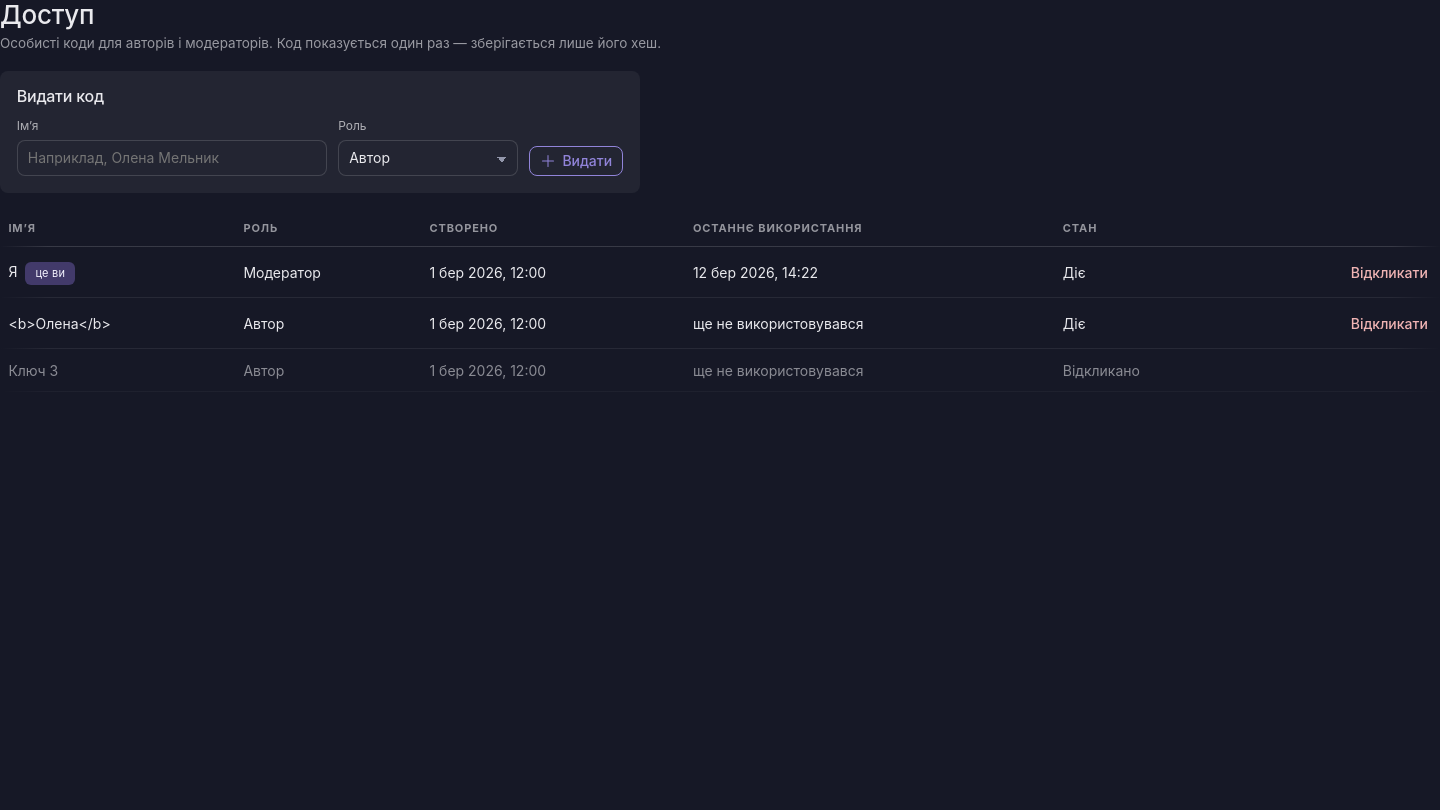
AccessComponent › a clipboard that is missing or refuses leaves the field to copy by hand, with a note
In the field with id "key-label": (172, 158) [17, 140, 327, 176], type "Ірина"
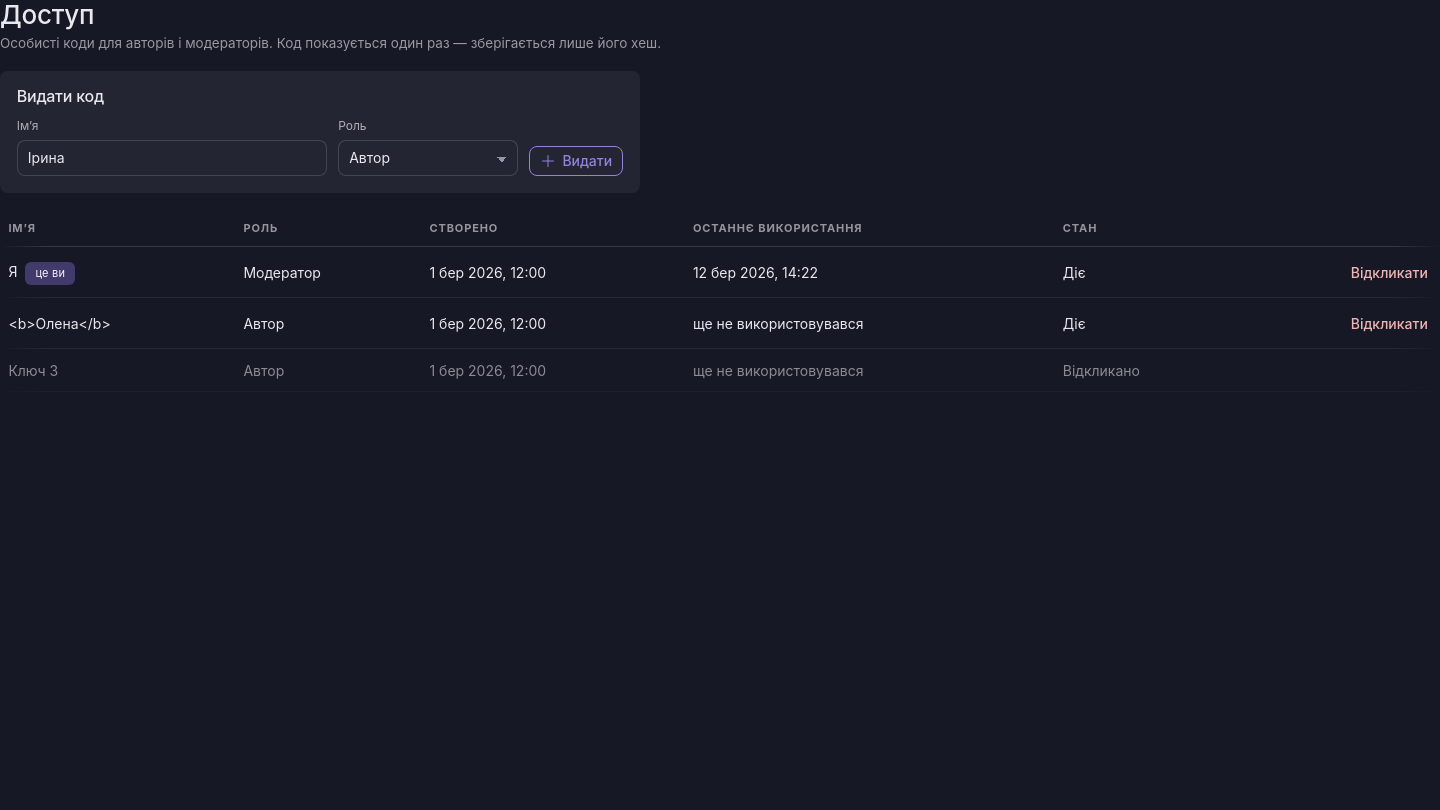
Select "Автор" in the dropdown with id "key-role": (428, 158) [338, 140, 518, 176]
Submit the form, box [17, 117, 623, 176]
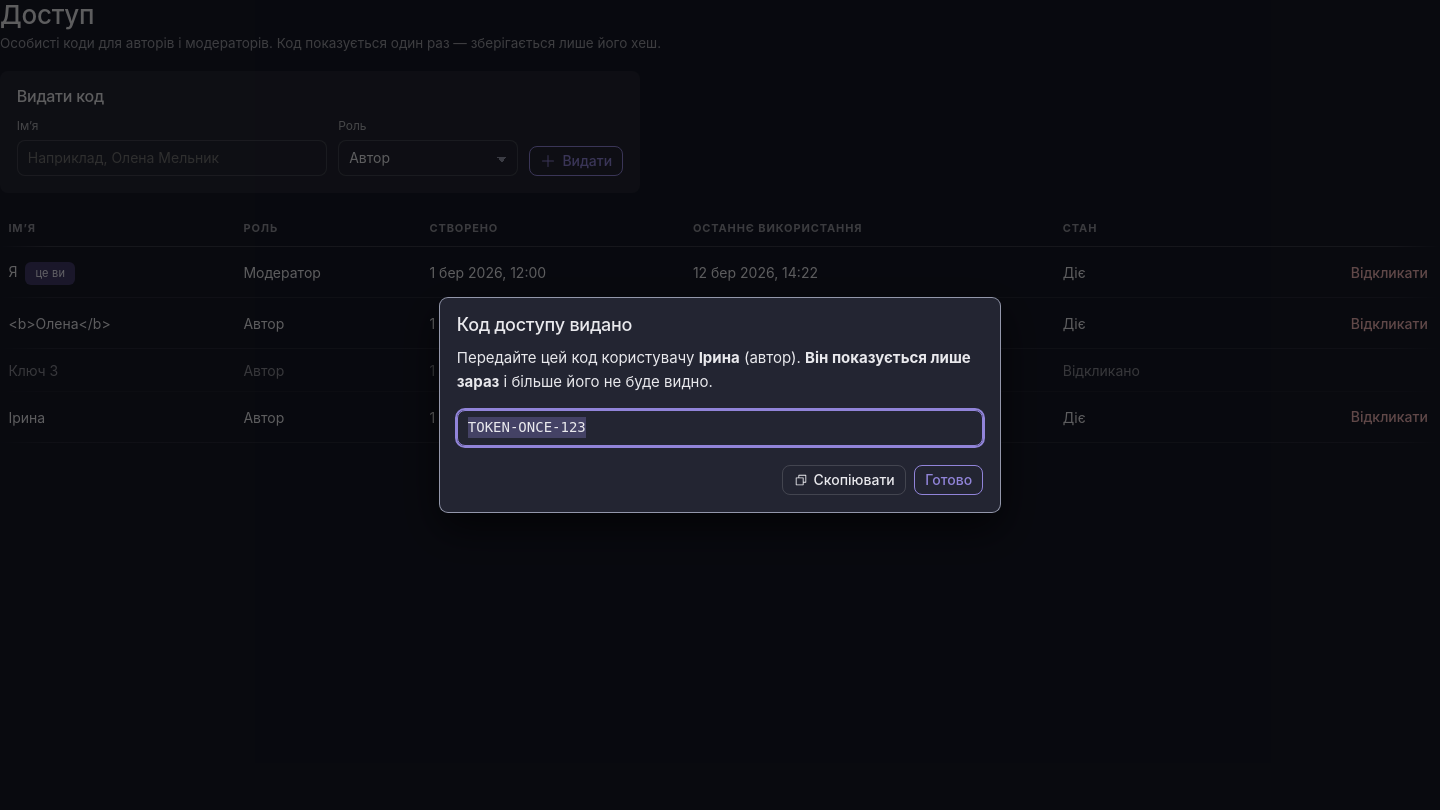
Click the button "Скопіювати": (844, 480) [782, 465, 906, 495]
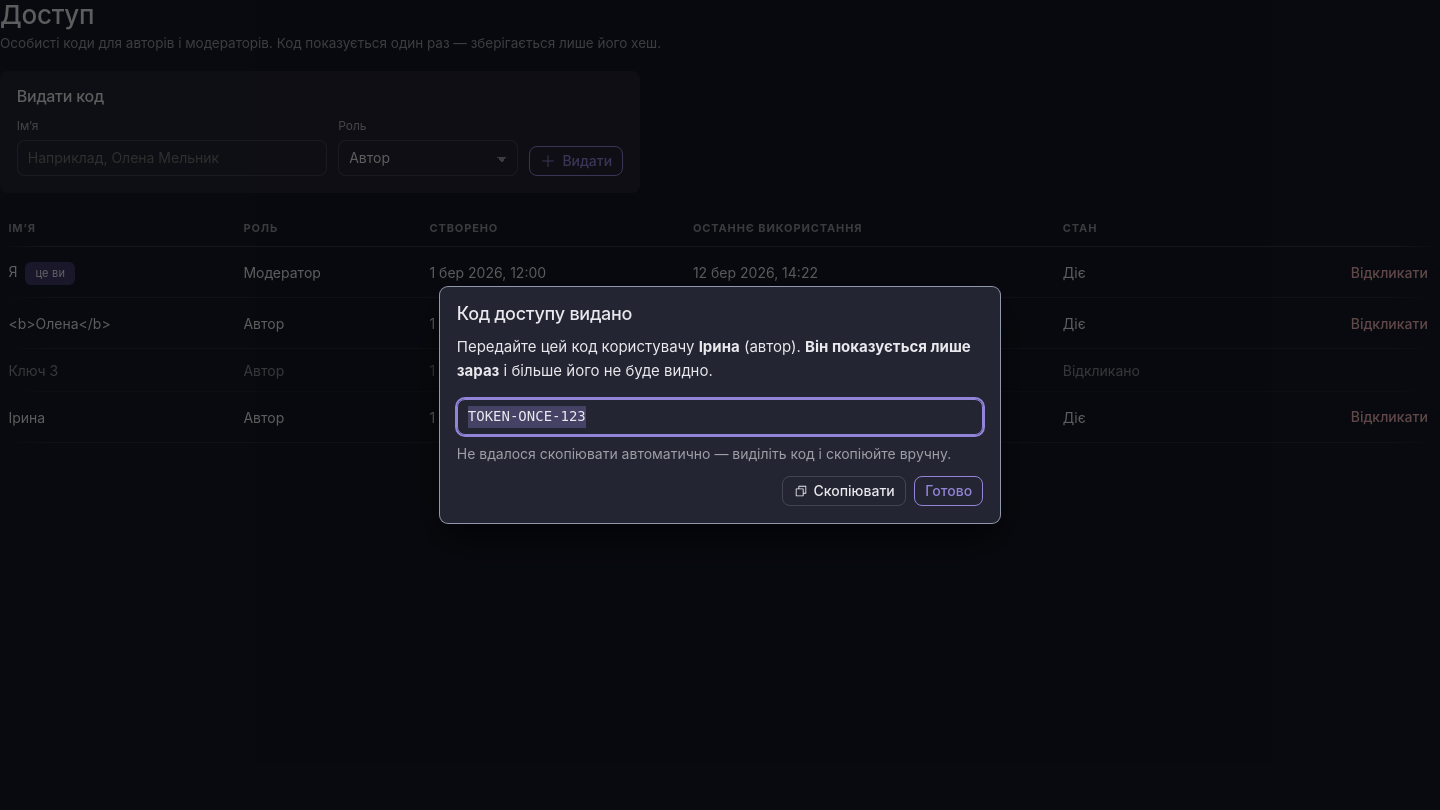
Check: the text "вручну" is shown, box [457, 445, 951, 462]
